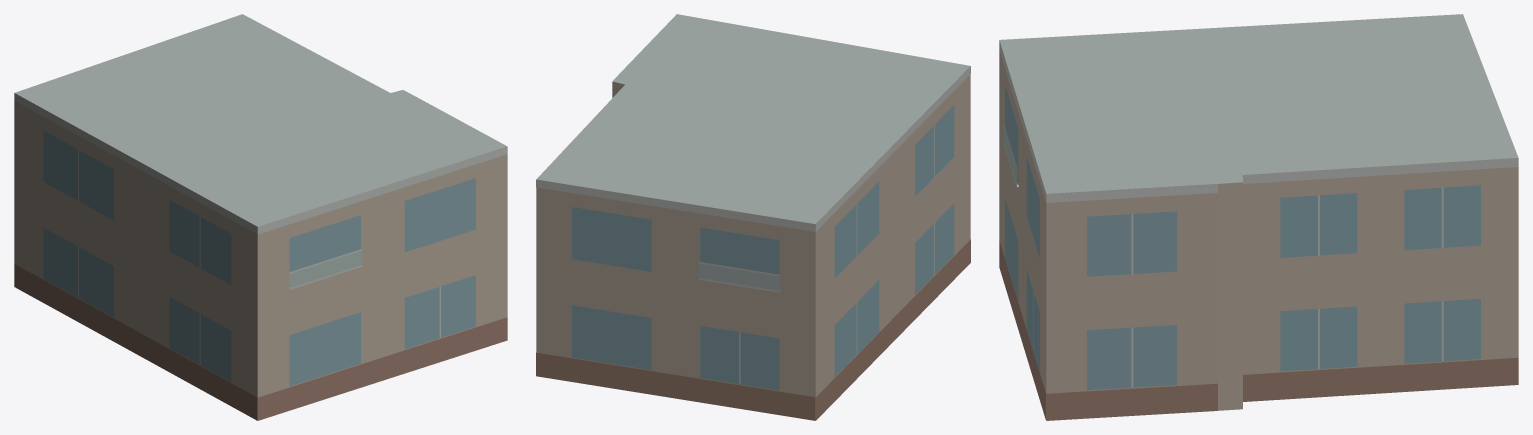
File: survey-upis-33030139.glb
3 renders of one model, left to right at view 1: azimuth 30°, elevation 25°; view 2: azimuth 150°, elevation 25°; view 3: azimuth 270°, elevation 25°, orthographic. The views are drawn at different scales.
Visible parts, largest first — view 1: survey-upis-33030139.tmp; view 2: survey-upis-33030139.tmp; view 3: survey-upis-33030139.tmp.
Boxes of the visible parts, <box> form: survey-upis-33030139.tmp: <box>14,14,507,420</box>; survey-upis-33030139.tmp: <box>536,14,970,420</box>; survey-upis-33030139.tmp: <box>999,14,1518,420</box>.
Bounding box in the file's own units: 10.38 × 6.1 × 12.66.
